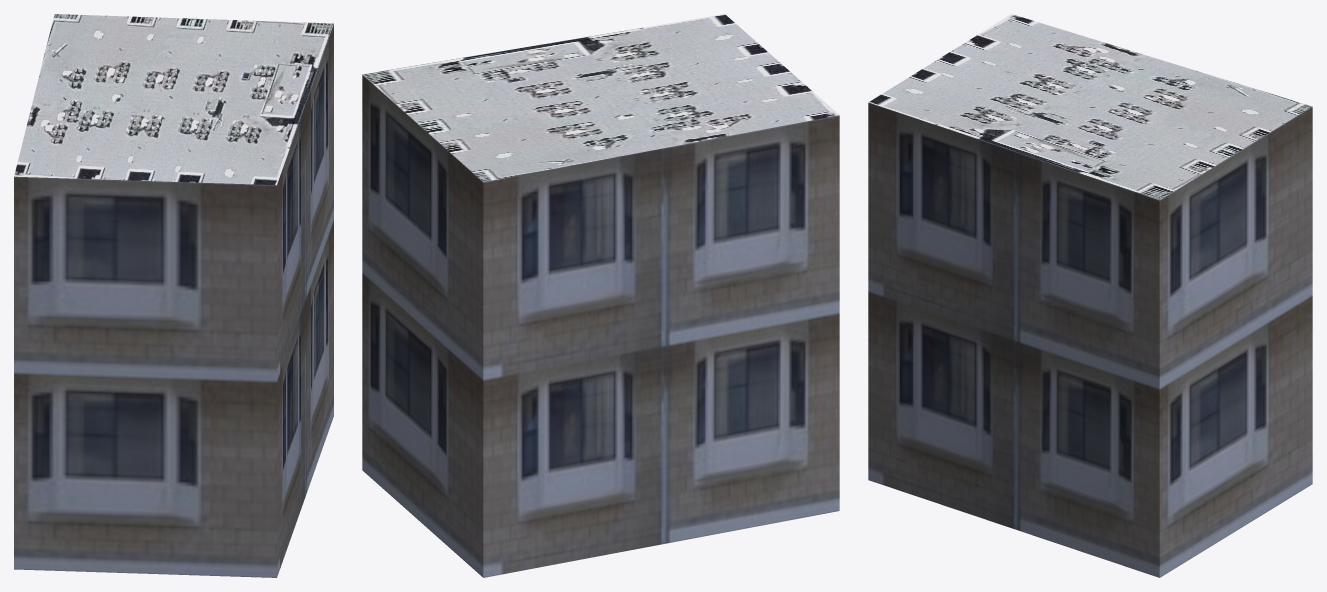
File: ResTex__3809.fbx
3 views of the same model, side by side, from view 1: azimuth 30°, elevation 25°; view 2: azimuth 150°, elevation 25°; view 3: azimuth 270°, elevation 25° (orthographic). The views are drawn at different scales.
Parts seen in each view (by area): view 1: CityEngineMaterial_3_m, CityEngineMaterial_4_m; view 2: CityEngineMaterial_3_m, CityEngineMaterial_4_m; view 3: CityEngineMaterial_3_m, CityEngineMaterial_4_m.
Part boxes in pixels (bbox=[...]): CityEngineMaterial_3_m: bbox=[14, 24, 333, 577]; CityEngineMaterial_4_m: bbox=[14, 14, 333, 185]; CityEngineMaterial_3_m: bbox=[362, 75, 839, 577]; CityEngineMaterial_4_m: bbox=[362, 14, 839, 182]; CityEngineMaterial_3_m: bbox=[868, 102, 1312, 577]; CityEngineMaterial_4_m: bbox=[868, 14, 1312, 200].
Bounding box in the file's own units: 6.35 × 6 × 6.4.
Materials: 2 (2 with a texture image).
